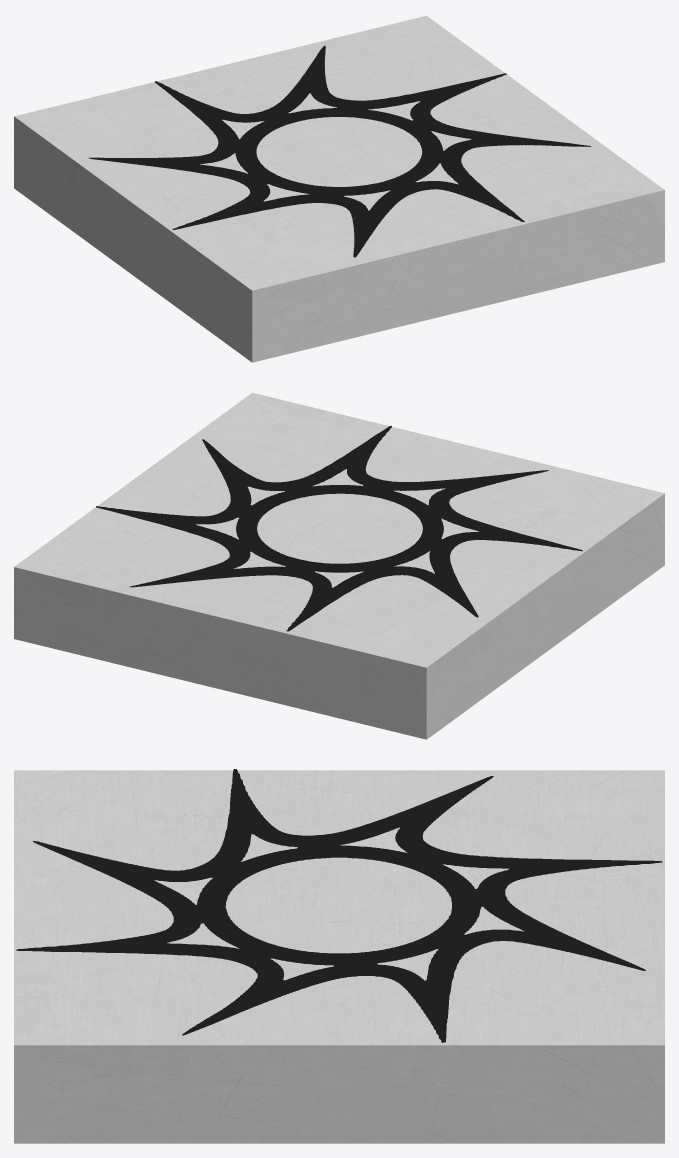
Rendered from spawnpoint.obj.
The picture shows the model from 3 angles, top to bottom: view 1: azimuth 30°, elevation 25°; view 2: azimuth 150°, elevation 25°; view 3: azimuth 270°, elevation 25°; orthographic projection. The views are drawn at different scales.
Visible parts, largest first — view 1: Spawnpoint1, Spawnpoint2; view 2: Spawnpoint1, Spawnpoint2; view 3: Spawnpoint1, Spawnpoint2.
Part boxes in pixels (x1,y1,x2,y2): Spawnpoint1: (14, 15, 664, 362); Spawnpoint2: (89, 45, 591, 257); Spawnpoint1: (14, 392, 664, 739); Spawnpoint2: (96, 426, 582, 631); Spawnpoint1: (14, 770, 664, 1143); Spawnpoint2: (16, 769, 662, 1042).
Size of the model in its own units: 6 by 1.02 by 6.
Materials: 2 (2 with a texture image).
